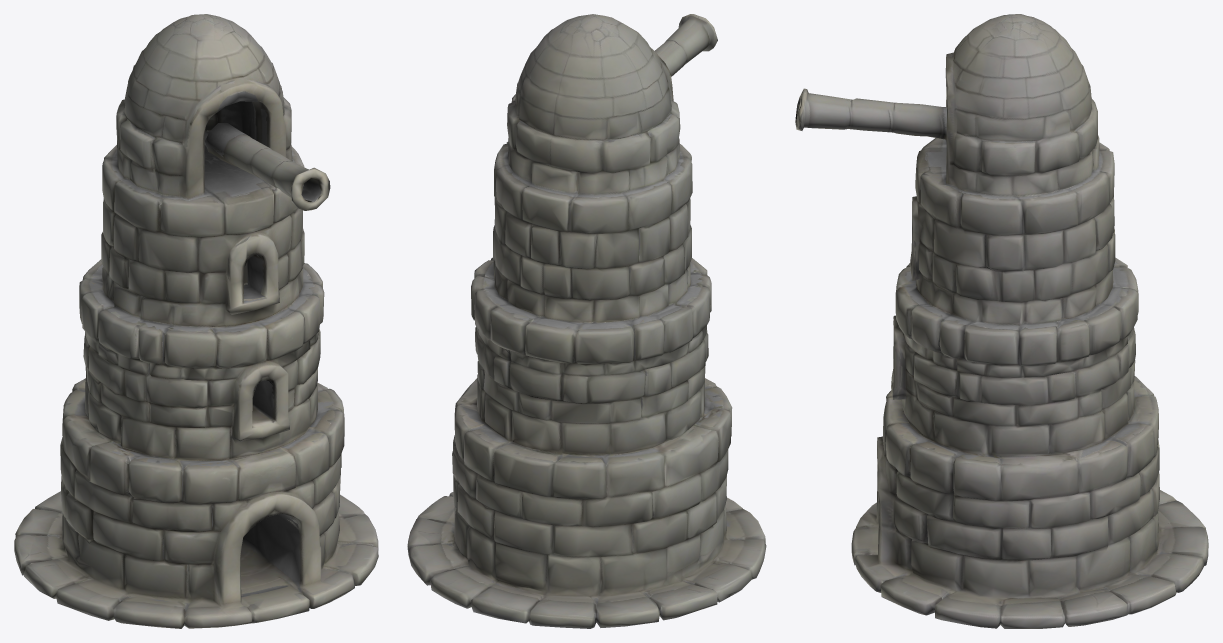
Rendered from Tower.Bomber.glb.
3 renders of one model, left to right at view 1: azimuth 30°, elevation 25°; view 2: azimuth 150°, elevation 25°; view 3: azimuth 270°, elevation 25°, orthographic.
Visible parts, largest first — view 1: Mesh_0; view 2: Mesh_0; view 3: Mesh_0.
Part boxes in pixels (x1,y1,x2,y2): Mesh_0: (14, 14, 378, 628); Mesh_0: (407, 14, 766, 628); Mesh_0: (795, 14, 1208, 628).
Bounding box in the file's own units: 1.22 × 2 × 1.39.
Materials: 1 (1 with a texture image).
